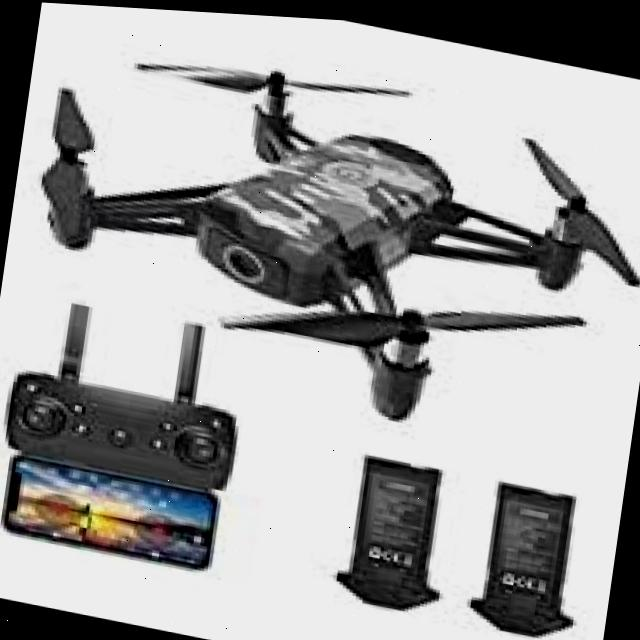drone: (0, 0, 640, 462)
